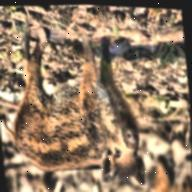boar: (0, 21, 146, 192)
